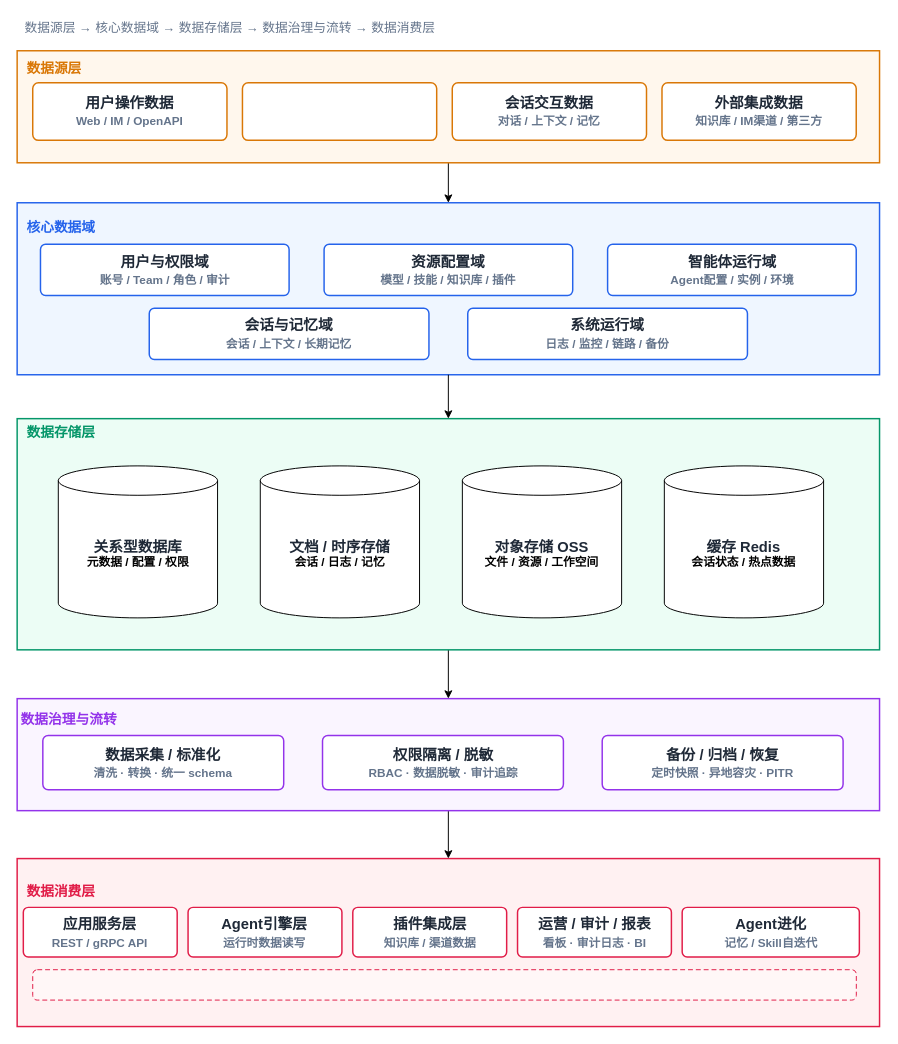
This 898x1044 diagram has some shape labels left out. The shapes that lost their labels are listed below. From the top down, each one's centre as x and y in pixels, then its label:
point (339, 111): 业务配置数据 Agent / 工作流 / 资源
point (444, 984): 治理后的数据以标准化接口对外提供服务 · 消费方无需感知底层存储细节
